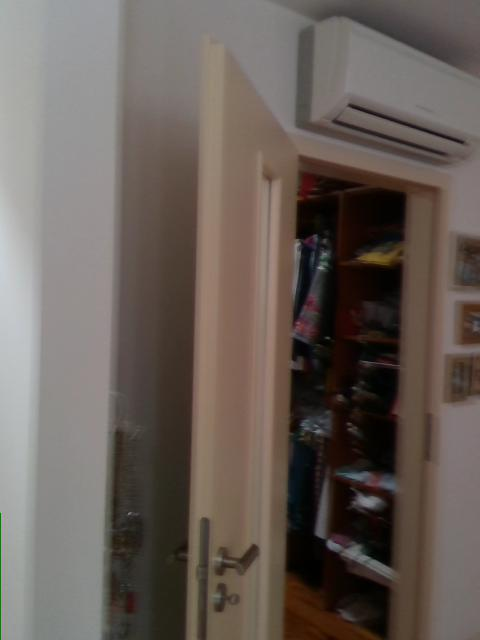open_door: (230, 132, 451, 639)
